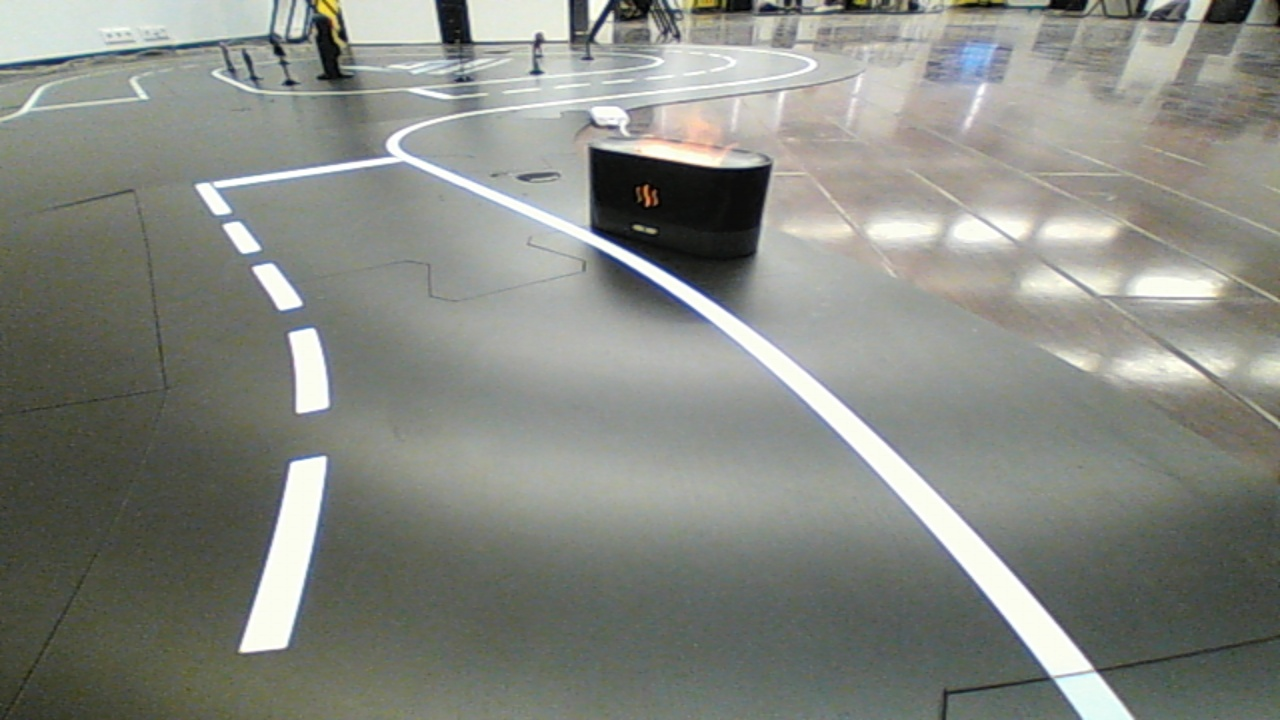Movement prohibition: (573, 121, 788, 272)
